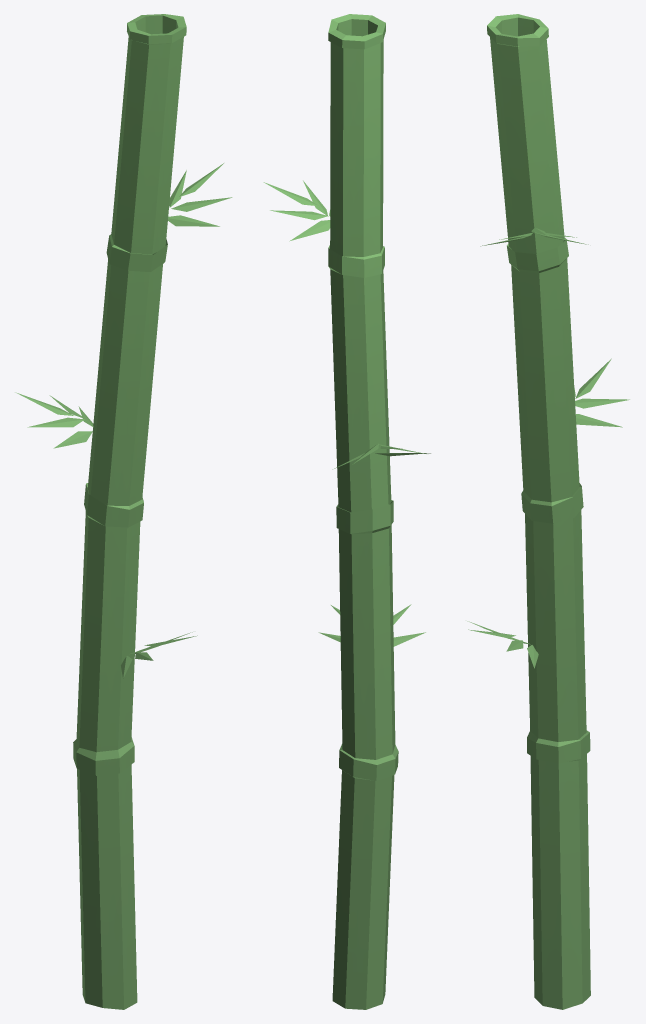
Rendered from bamboo.fbx.
The picture shows the model from 3 angles, left to right: view 1: azimuth 30°, elevation 25°; view 2: azimuth 150°, elevation 25°; view 3: azimuth 270°, elevation 25°; orthographic projection. The views are drawn at different scales.
Parts seen in each view (by area): view 1: Bamboo; view 2: Bamboo; view 3: Bamboo.
Boxes of the visible parts, left/top/right/bottom form: Bamboo: left=15, top=14, right=232, bottom=1009; Bamboo: left=263, top=14, right=430, bottom=1009; Bamboo: left=467, top=14, right=629, bottom=1009.
Bounding box in the file's own units: 0.5938 × 3.02 × 0.4649.
